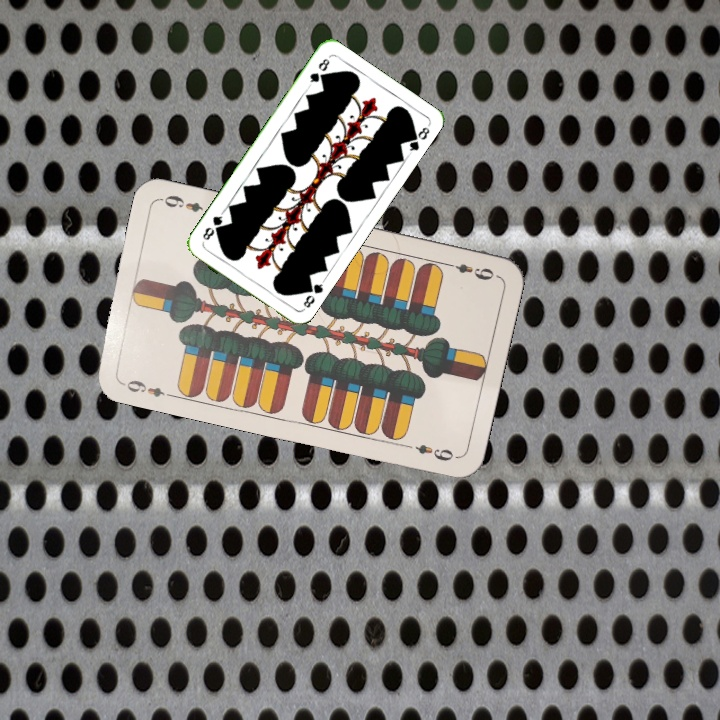E9: (116, 376, 175, 400), (441, 258, 497, 283)
G8: (298, 277, 327, 313), (305, 54, 332, 89)
